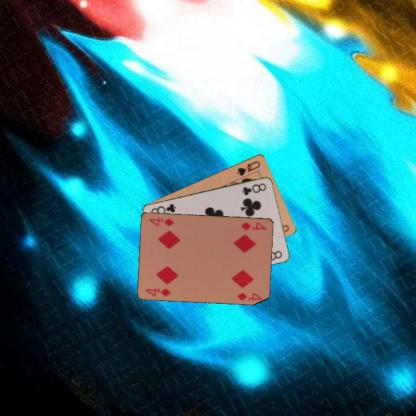4d: (238, 219, 268, 232), (143, 286, 172, 298)
8c: (239, 180, 268, 196)
Qs: (235, 158, 261, 177)
